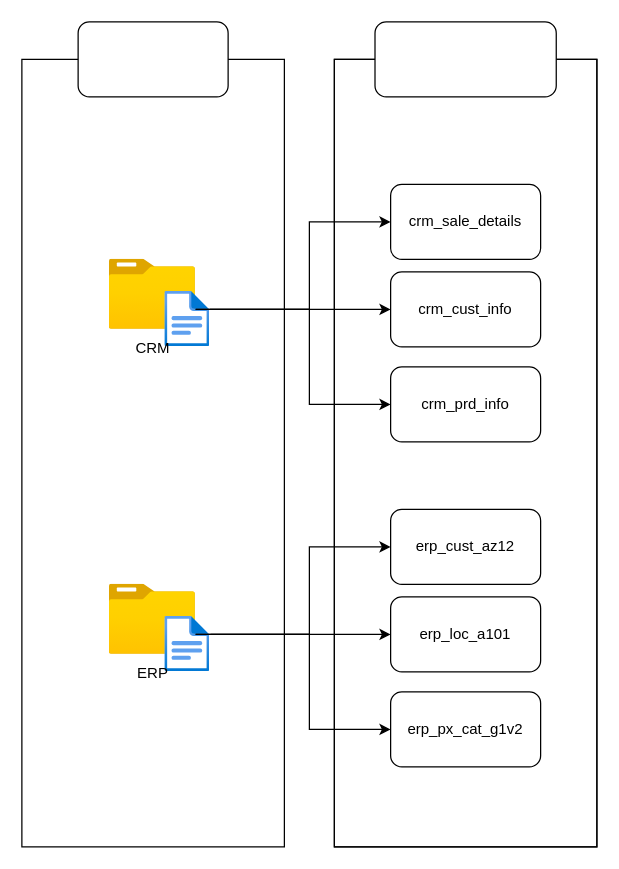
The diagram is 619 pixels wide and 869 high, and some of its shapes have lost their labels. The shapes that lost their labels are listed below. From the top down, each one's centre as x and y in pixels, then its label:
point (152, 59): Sources
point (465, 59): Bronze Layer
